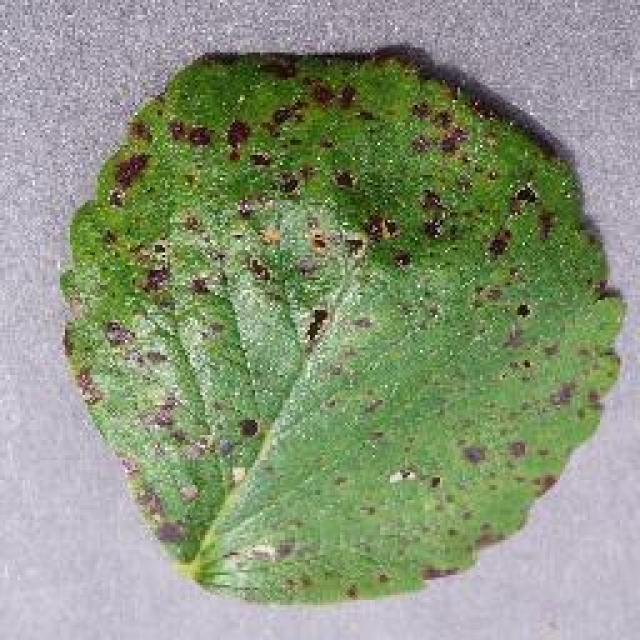Strawberry leaf scorch: (153, 93, 530, 565)
